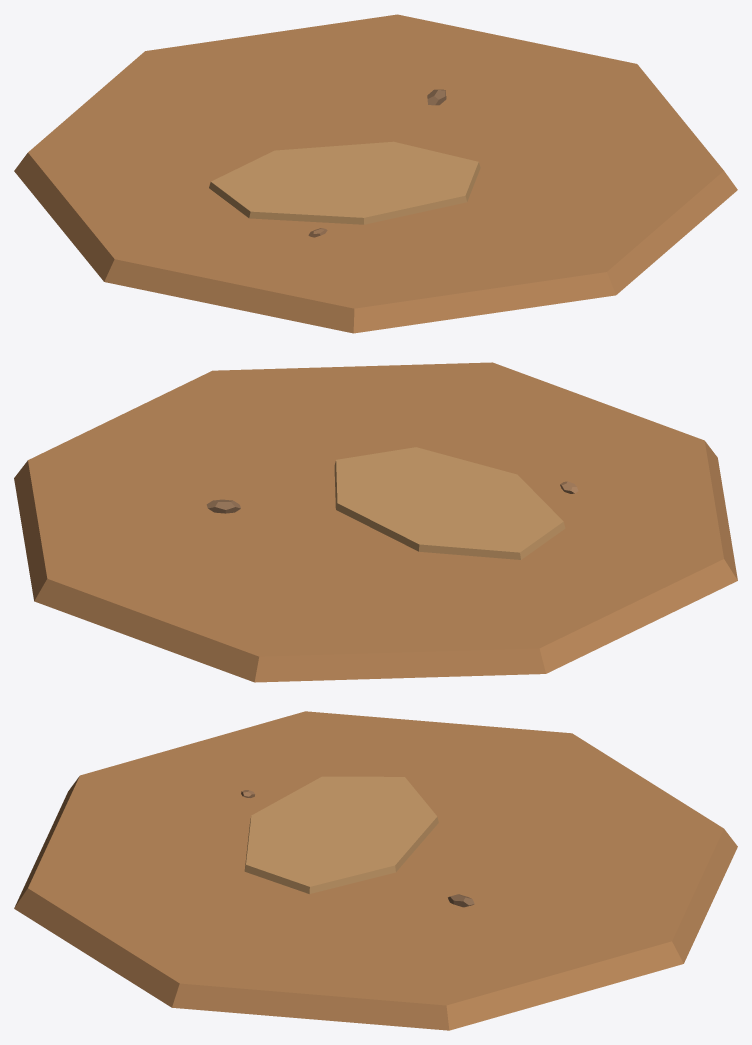
The model's file is terrain-1.glb.
3 renders of one model, top to bottom at view 1: azimuth 30°, elevation 25°; view 2: azimuth 150°, elevation 25°; view 3: azimuth 270°, elevation 25°, orthographic. The views are drawn at different scales.
Visible parts, largest first — view 1: slab (×2); view 2: slab (×2); view 3: slab (×2).
Part boxes in pixels (x1,y1,x2,y2): slab (×2): [14, 14, 737, 333]; slab (×2): [14, 362, 737, 682]; slab (×2): [14, 711, 737, 1030].
Bounding box in the file's own units: 6.12 × 0.3074 × 6.12.
